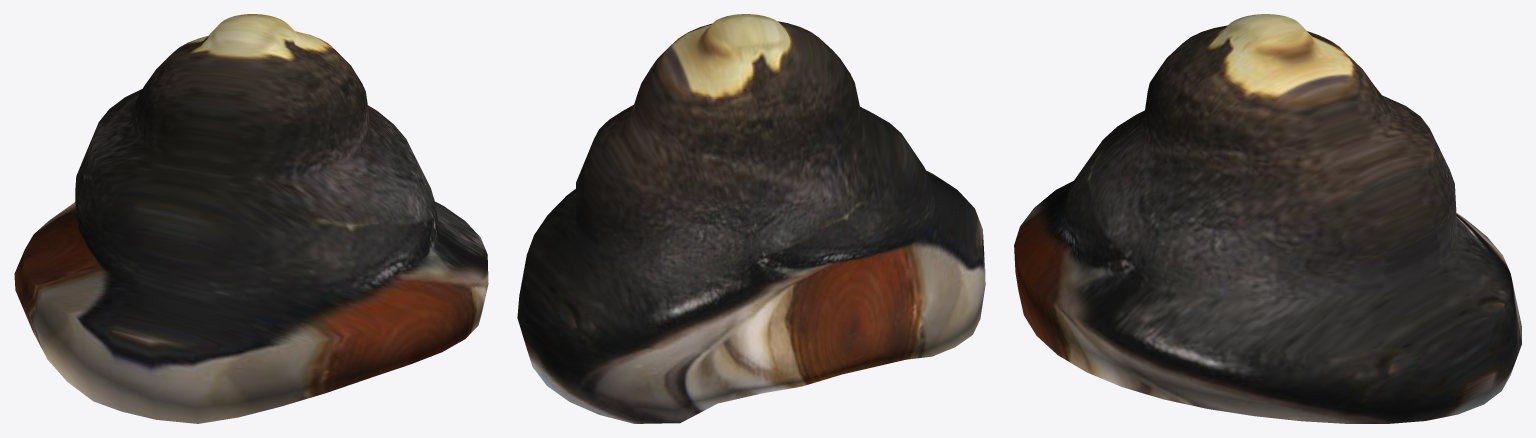
The model's file is Caracol.glb.
The picture shows the model from 3 angles, left to right: view 1: azimuth 30°, elevation 25°; view 2: azimuth 150°, elevation 25°; view 3: azimuth 270°, elevation 25°; orthographic projection. The views are drawn at different scales.
Visible parts, largest first — view 1: Cone; view 2: Cone; view 3: Cone.
Part boxes in pixels (x1,y1,x2,y2): Cone: [14, 14, 488, 423]; Cone: [517, 14, 985, 423]; Cone: [1014, 14, 1521, 423].
Bounding box in the file's own units: 2.93 × 2.31 × 3.15.
1 material, 1 textured.
